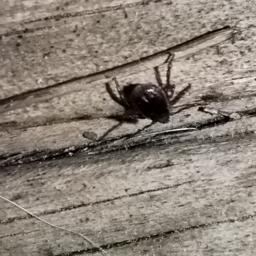Rhipicephalus sanguineus: (109, 68, 201, 142)
